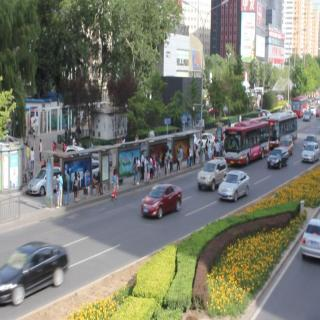BigCar: (216, 121, 272, 165), (267, 103, 298, 155)
Car: (1, 242, 67, 310), (142, 180, 184, 219), (22, 166, 68, 200), (218, 164, 251, 208), (199, 154, 228, 188), (304, 216, 320, 264), (265, 145, 290, 174), (304, 140, 319, 167), (294, 96, 308, 118)
